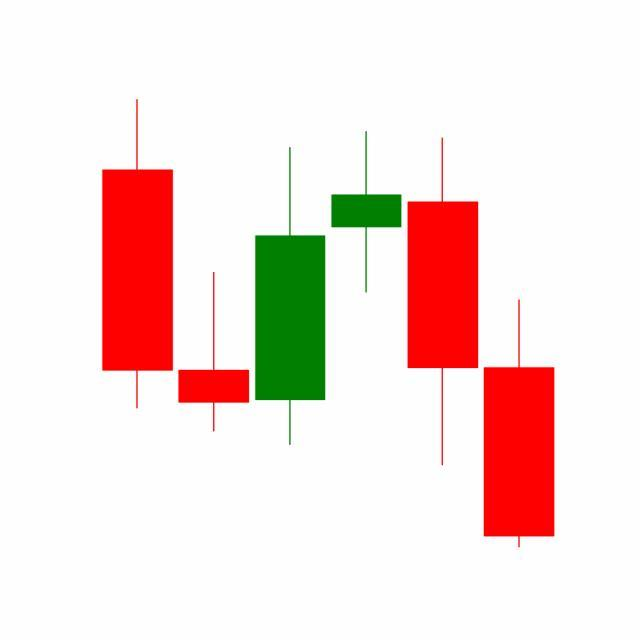Evening Star: (252, 128, 482, 470)
